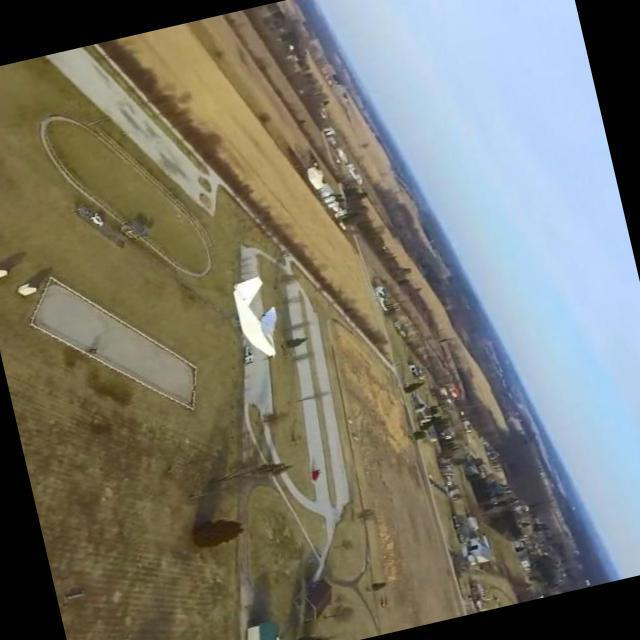iha: (229, 290, 270, 346)
